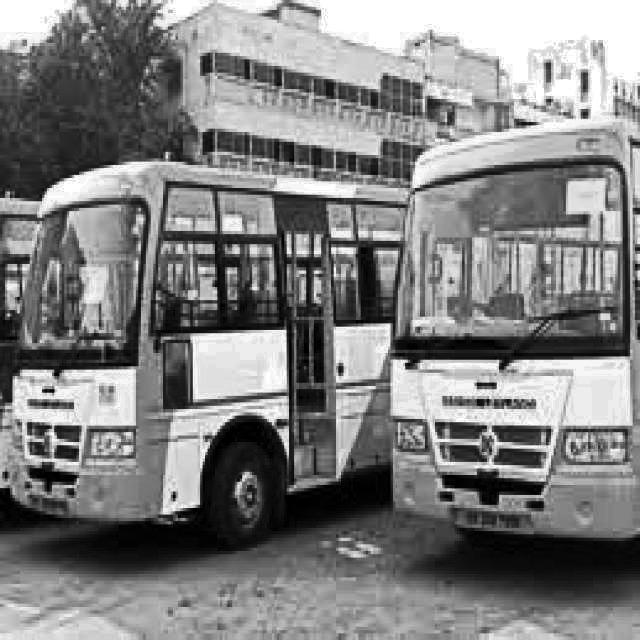Bus: (8, 142, 406, 532), (389, 110, 639, 563)
